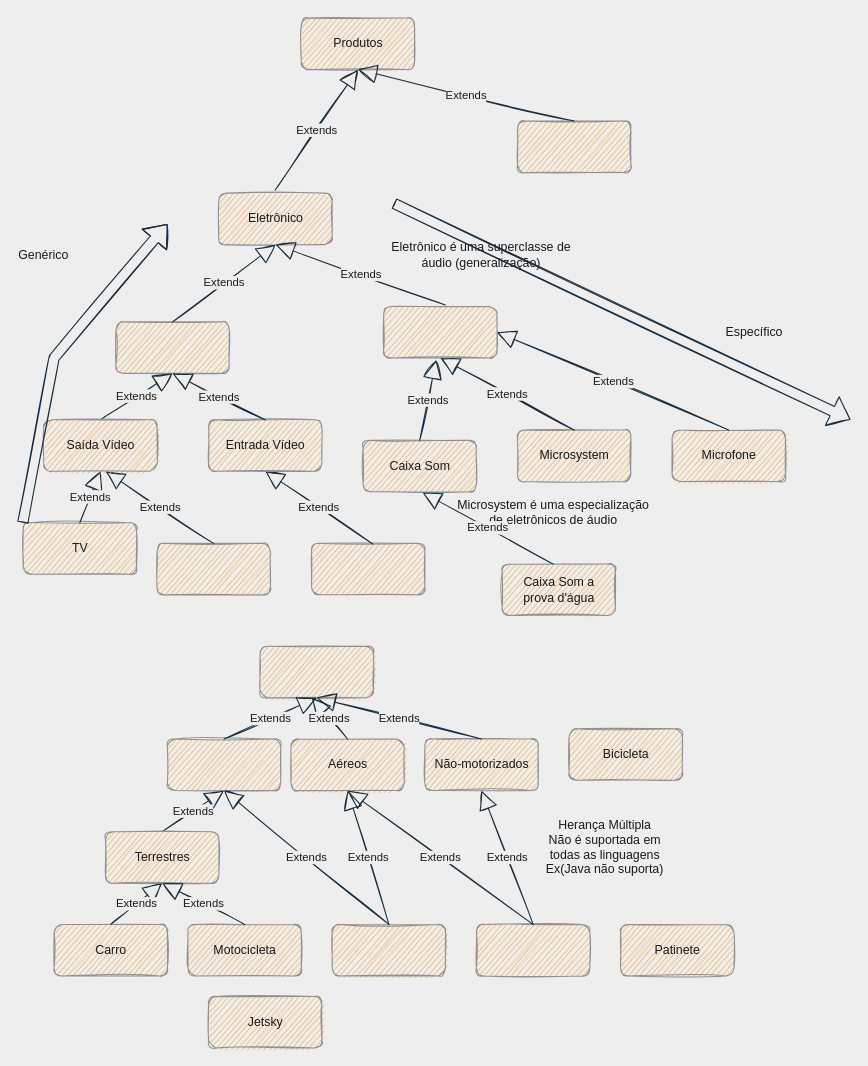
Some shapes in this 868 by 1066 pixel diagram are drawn without their labels. The shapes that lost their labels are listed below. From the top down, each one's centre as x and y in pixels, then its label:
(574,146): Móveis
(172,347): Vídeo
(440,331): Áudio
(213,568): Monitor
(368,568): Câmera
(316,671): Veículo
(223,764): Motorizados
(388,949): Helicóptero
(532,949): Parapente
